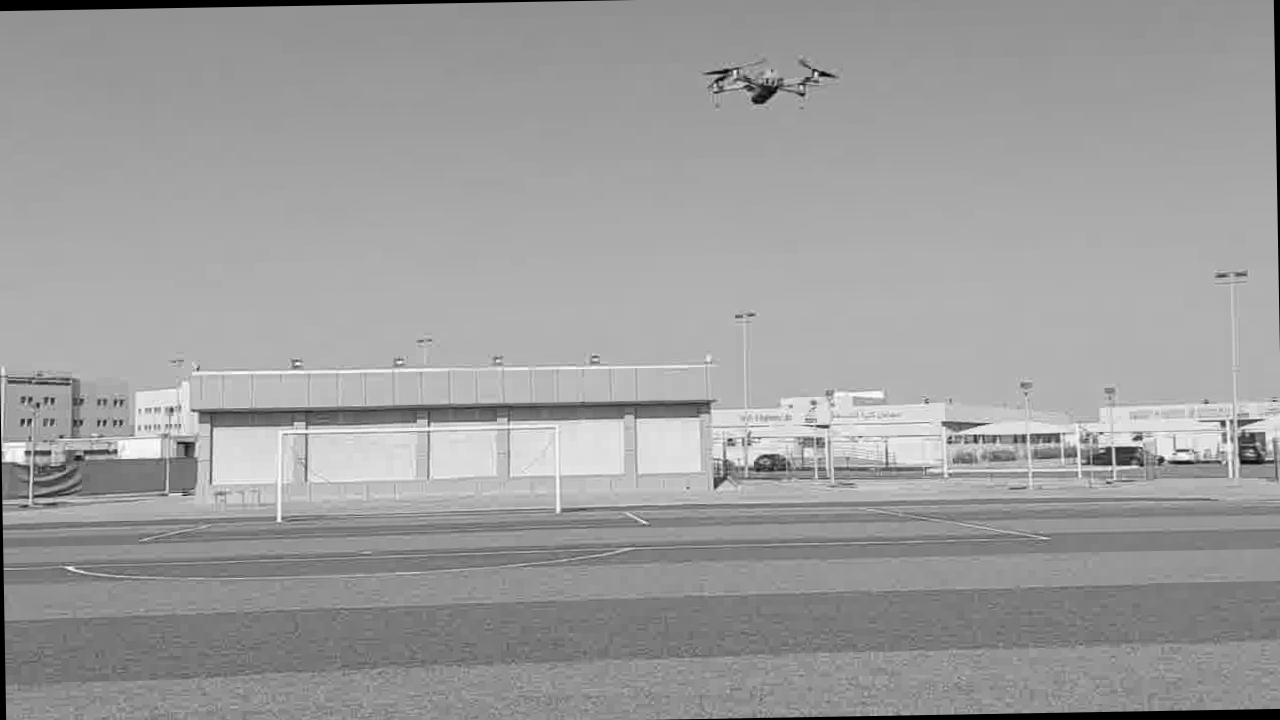drone: (700, 52, 834, 121)
